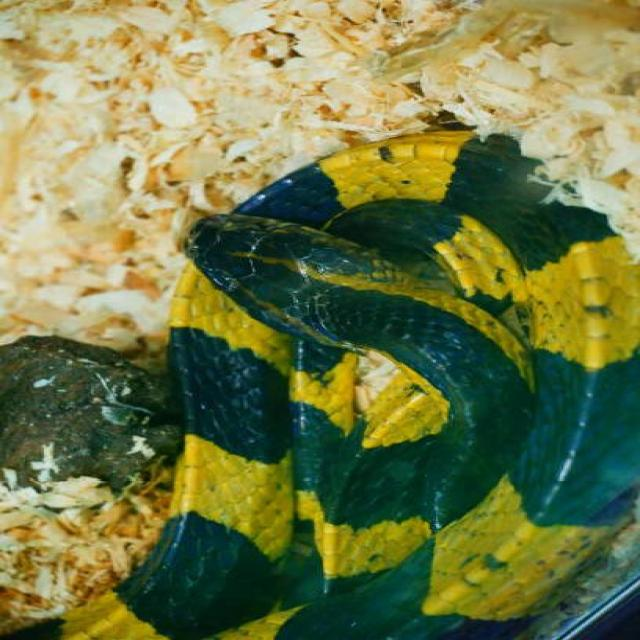Venomous: (165, 209, 482, 354)
